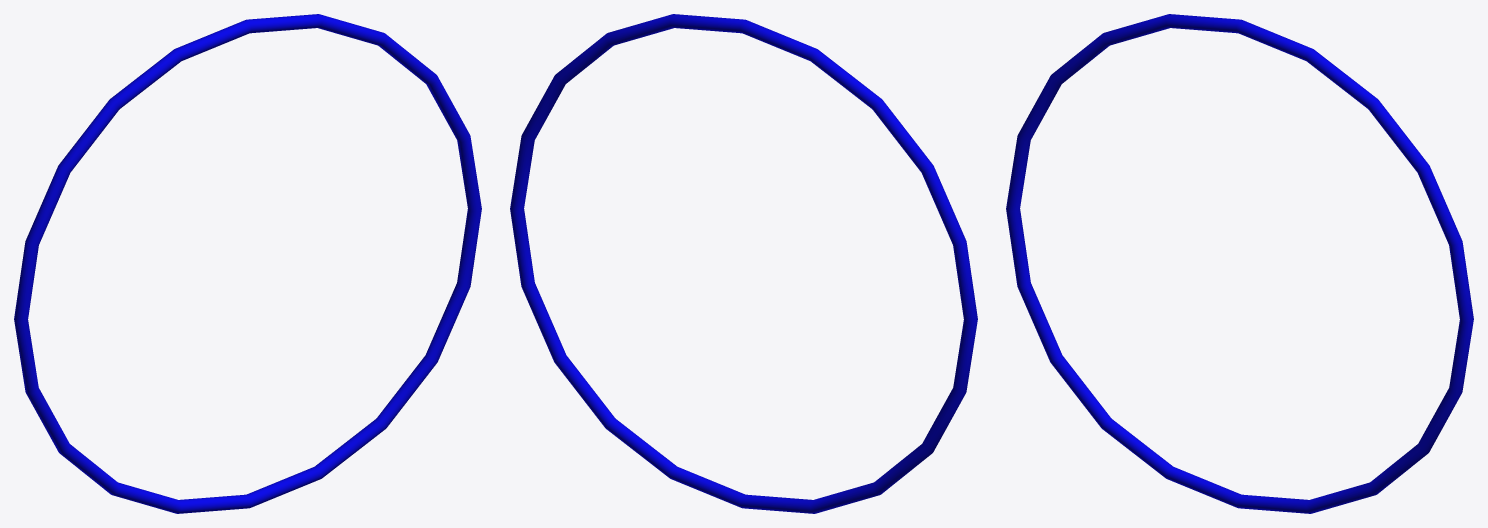
The model's file is RotateRoll.fbx.
3 views of the same model, side by side, from view 1: azimuth 30°, elevation 25°; view 2: azimuth 150°, elevation 25°; view 3: azimuth 330°, elevation 25° (orthographic).
Visible parts, largest first — view 1: pTorus3; view 2: pTorus3; view 3: pTorus3.
Boxes of the visible parts, x1,y1,x2,y2 form: pTorus3: (14,14,481,513); pTorus3: (510,14,977,513); pTorus3: (1006,14,1473,513).
Bounding box in the file's own units: 2 × 2 × 0.0524.
